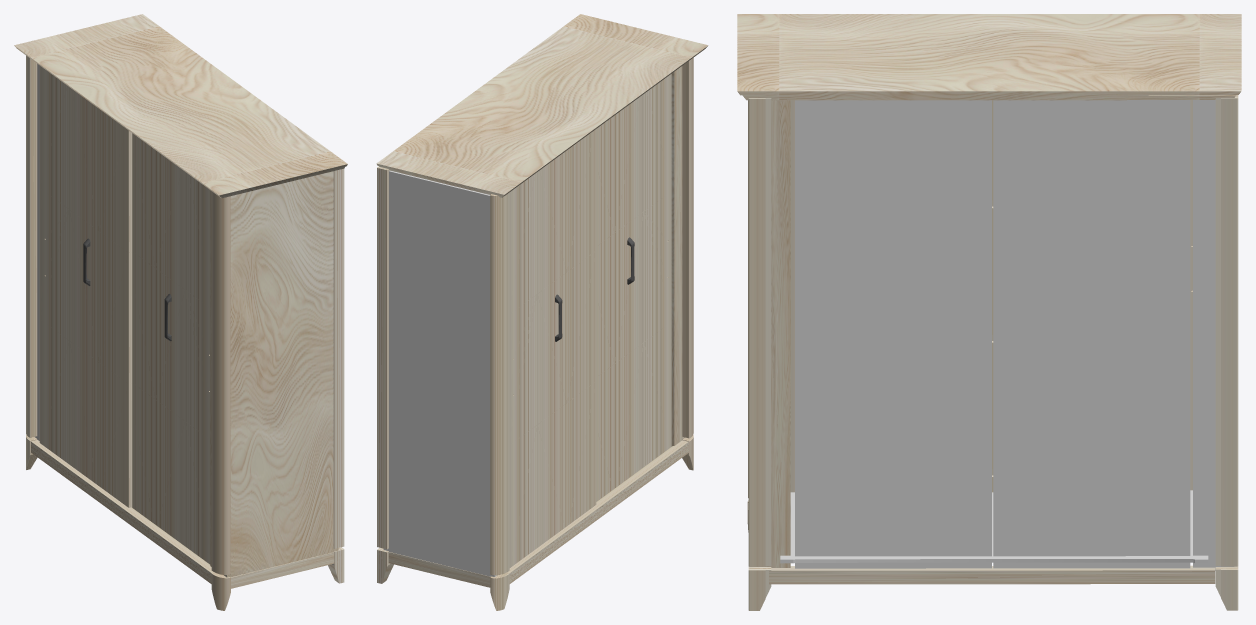
The model's file is NFG-I0009.glb.
3 views of the same model, side by side, from view 1: azimuth 30°, elevation 25°; view 2: azimuth 150°, elevation 25°; view 3: azimuth 270°, elevation 25° (orthographic). The views are drawn at different scales.
Parts seen in each view (by area): view 1: Box003.001; view 2: Box003.001; view 3: Box003.001.
Part boxes in pixels (box(x1,y1,x2,y2)): Box003.001: box(14, 14, 347, 610); Box003.001: box(376, 14, 708, 610); Box003.001: box(737, 14, 1241, 610).
Bounding box in the file's own units: 0.6525 × 2 × 1.76.
4 materials, 1 textured.
